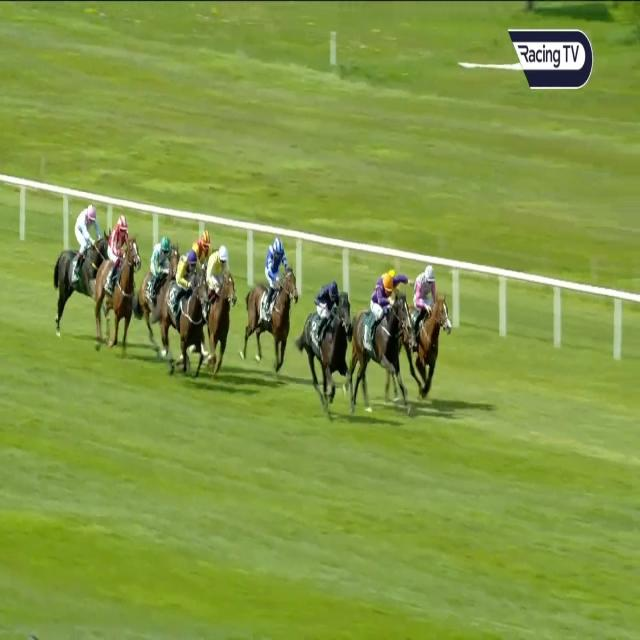horses-racing: (243, 236, 299, 378), (353, 274, 414, 401), (298, 278, 352, 404), (94, 214, 141, 358), (405, 266, 453, 399), (55, 204, 108, 322), (205, 245, 238, 386), (176, 248, 206, 372), (143, 236, 177, 333), (193, 224, 217, 262)
